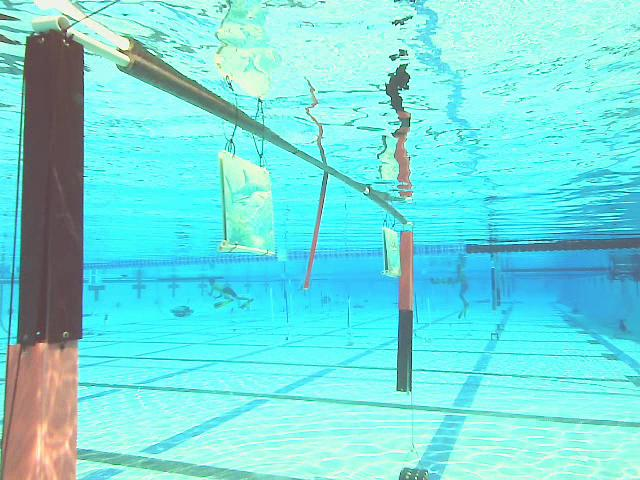divider: (305, 165, 333, 291)
left_gate_poster: (15, 32, 82, 477)
right_gate_poster: (398, 233, 411, 391)
shark: (220, 153, 281, 262)
swordfish: (385, 230, 403, 277)
